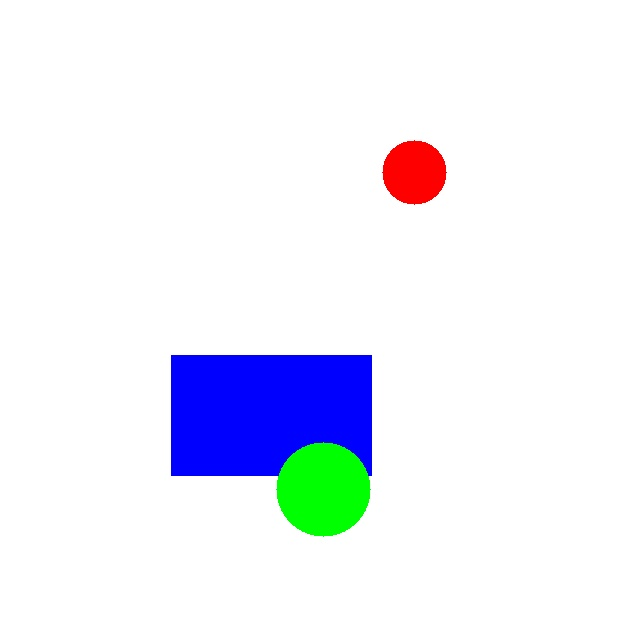cartao: (171, 355, 371, 475)
rosca_externa: (276, 442, 370, 536)
rosca_interna: (382, 140, 446, 204)
